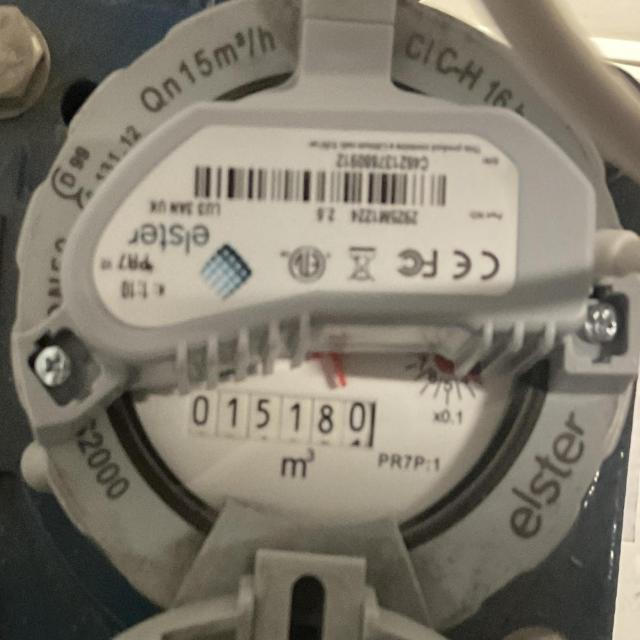gaz_meter: (17, 0, 639, 625)
indication: (183, 378, 385, 455)
